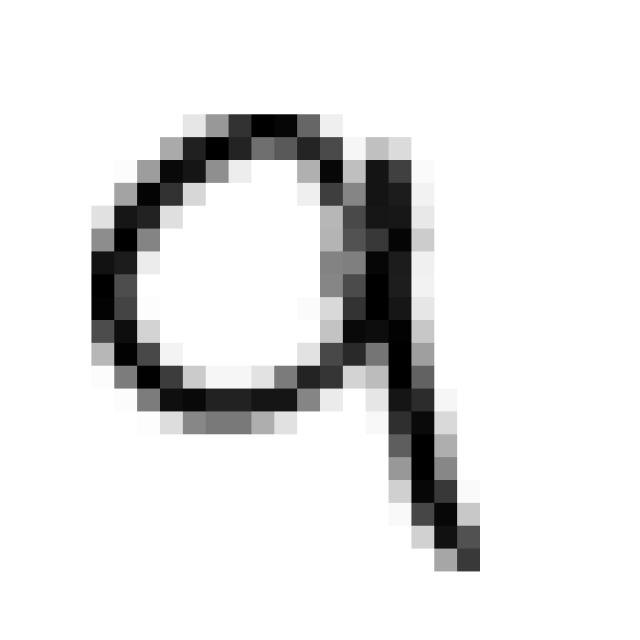9 -nine-: (69, 103, 507, 603)
